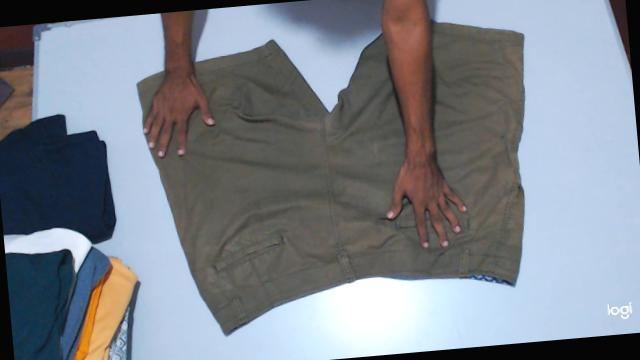new-garment: (153, 23, 524, 334), (137, 72, 165, 120)
